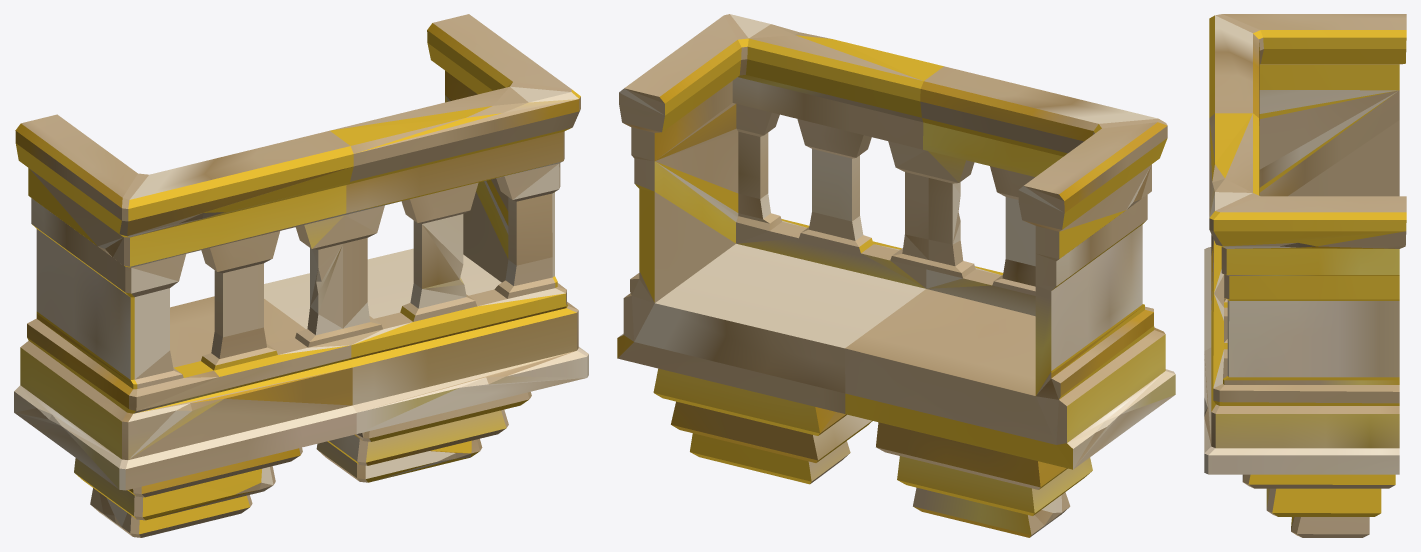
Rendered from Mansion_Balcony_01.fbx.
3 views of the same model, side by side, from view 1: azimuth 30°, elevation 25°; view 2: azimuth 150°, elevation 25°; view 3: azimuth 270°, elevation 25° (orthographic). The views are drawn at different scales.
Visible parts, largest first — view 1: SM_Bld_Deco_Balcony_01; view 2: SM_Bld_Deco_Balcony_01; view 3: SM_Bld_Deco_Balcony_01.
Boxes of the visible parts, <box> form: SM_Bld_Deco_Balcony_01: <box>14,14,588,537</box>; SM_Bld_Deco_Balcony_01: <box>617,14,1175,537</box>; SM_Bld_Deco_Balcony_01: <box>1204,14,1406,537</box>.
Size of the model in its own units: 176 by 138 by 72.61.
